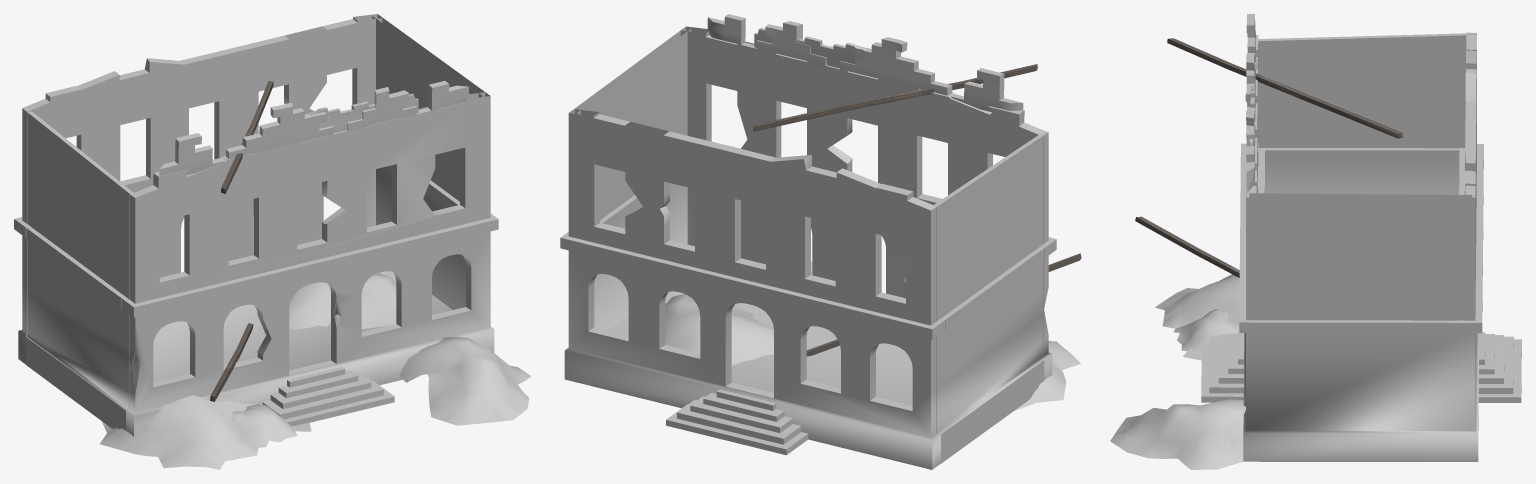
File: house yellow3_LOD1.fbx
3 views of the same model, side by side, from view 1: azimuth 30°, elevation 25°; view 2: azimuth 150°, elevation 25°; view 3: azimuth 270°, elevation 25° (orthographic). The views are drawn at different scales.
Visible parts, largest first — view 1: house_yellow3_LOD1; view 2: house_yellow3_LOD1; view 3: house_yellow3_LOD1.
Boxes of the visible parts, x1,y1,x2,y2 form: house_yellow3_LOD1: (14, 14, 531, 469); house_yellow3_LOD1: (560, 14, 1081, 469); house_yellow3_LOD1: (1110, 14, 1521, 469).
Bounding box in the file's own units: 9.99 × 7.32 × 8.98.
